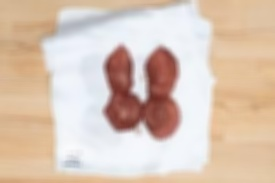blood: (105, 44, 143, 133), (144, 46, 179, 140)
